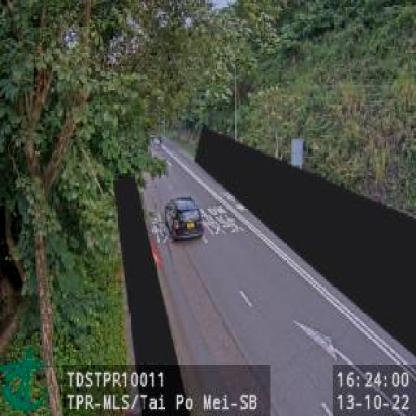Car: (165, 194, 205, 240)
